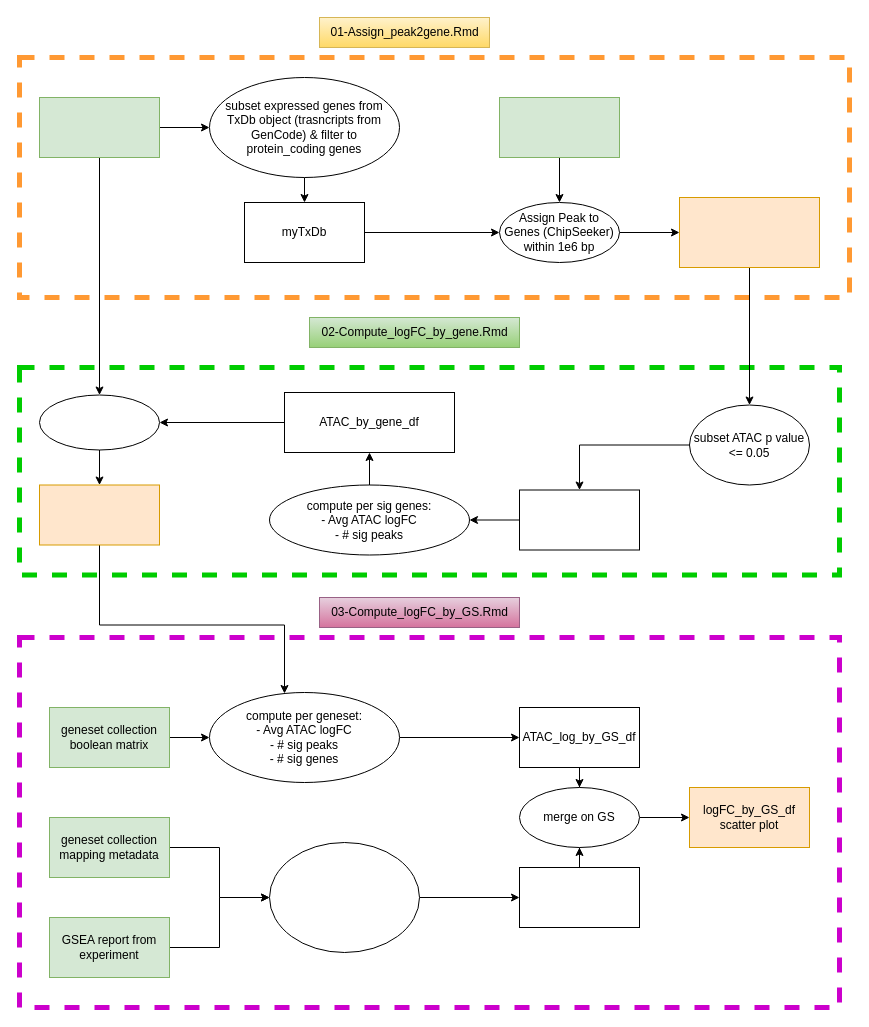
Image size: 869x1027. Some labels were removed from this diagram. The box of each missing label's shape, as (x1, y1, x2, y2) in pixels:
Add geneset metadata to GSEA report + compute RNA NES: (268, 842, 420, 952)
ATACseq (DPA logFC): (498, 96, 620, 158)
logFC_by_gene_df table: (38, 484, 160, 545)
merge by gene on RNAseq: (38, 394, 160, 450)
peakAnno_df table ATAC logFC assigned to genes: (678, 196, 820, 268)
RNA_GSEA_df: (518, 866, 640, 928)
RNAseq (DGE logFC): (38, 96, 160, 158)
sig_peakAnno_df: (518, 489, 640, 550)
